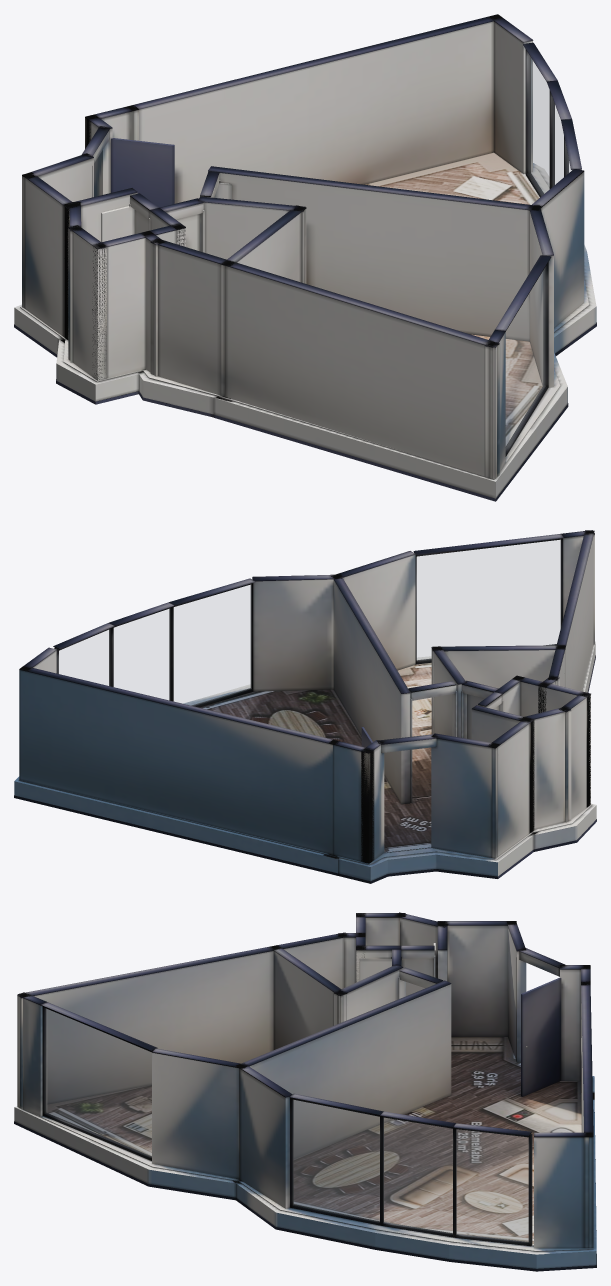
3 renders of one model, top to bottom at view 1: azimuth 30°, elevation 25°; view 2: azimuth 150°, elevation 25°; view 3: azimuth 270°, elevation 25°, orthographic. The views are drawn at different scales.
Visible parts, largest first — view 1: plan, glass3_m, glass0_m, glass1_m; view 2: plan, glass3_m, glass2_m, glass1_m, glass0_m; view 3: plan, glass3_m, glass2_m, glass0_m, glass1_m.
Boxes of the visible parts, box(x1,y1,x2,y2) form: plan: box(14, 14, 596, 501); glass3_m: box(506, 267, 545, 449); glass0_m: box(528, 54, 549, 194); glass1_m: box(552, 98, 563, 186); plan: box(14, 530, 596, 883); glass3_m: box(417, 540, 560, 660); glass2_m: box(174, 584, 251, 705); glass1_m: box(114, 609, 169, 700); glass0_m: box(59, 629, 109, 685); plan: box(14, 912, 596, 1271); glass3_m: box(45, 1008, 151, 1157); glass2_m: box(293, 1100, 379, 1221); glass0_m: box(456, 1129, 528, 1242); glass1_m: box(383, 1118, 452, 1233).
Size of the model in its own units: 10.15 by 2.62 by 10.69.
2 materials, 1 textured.
